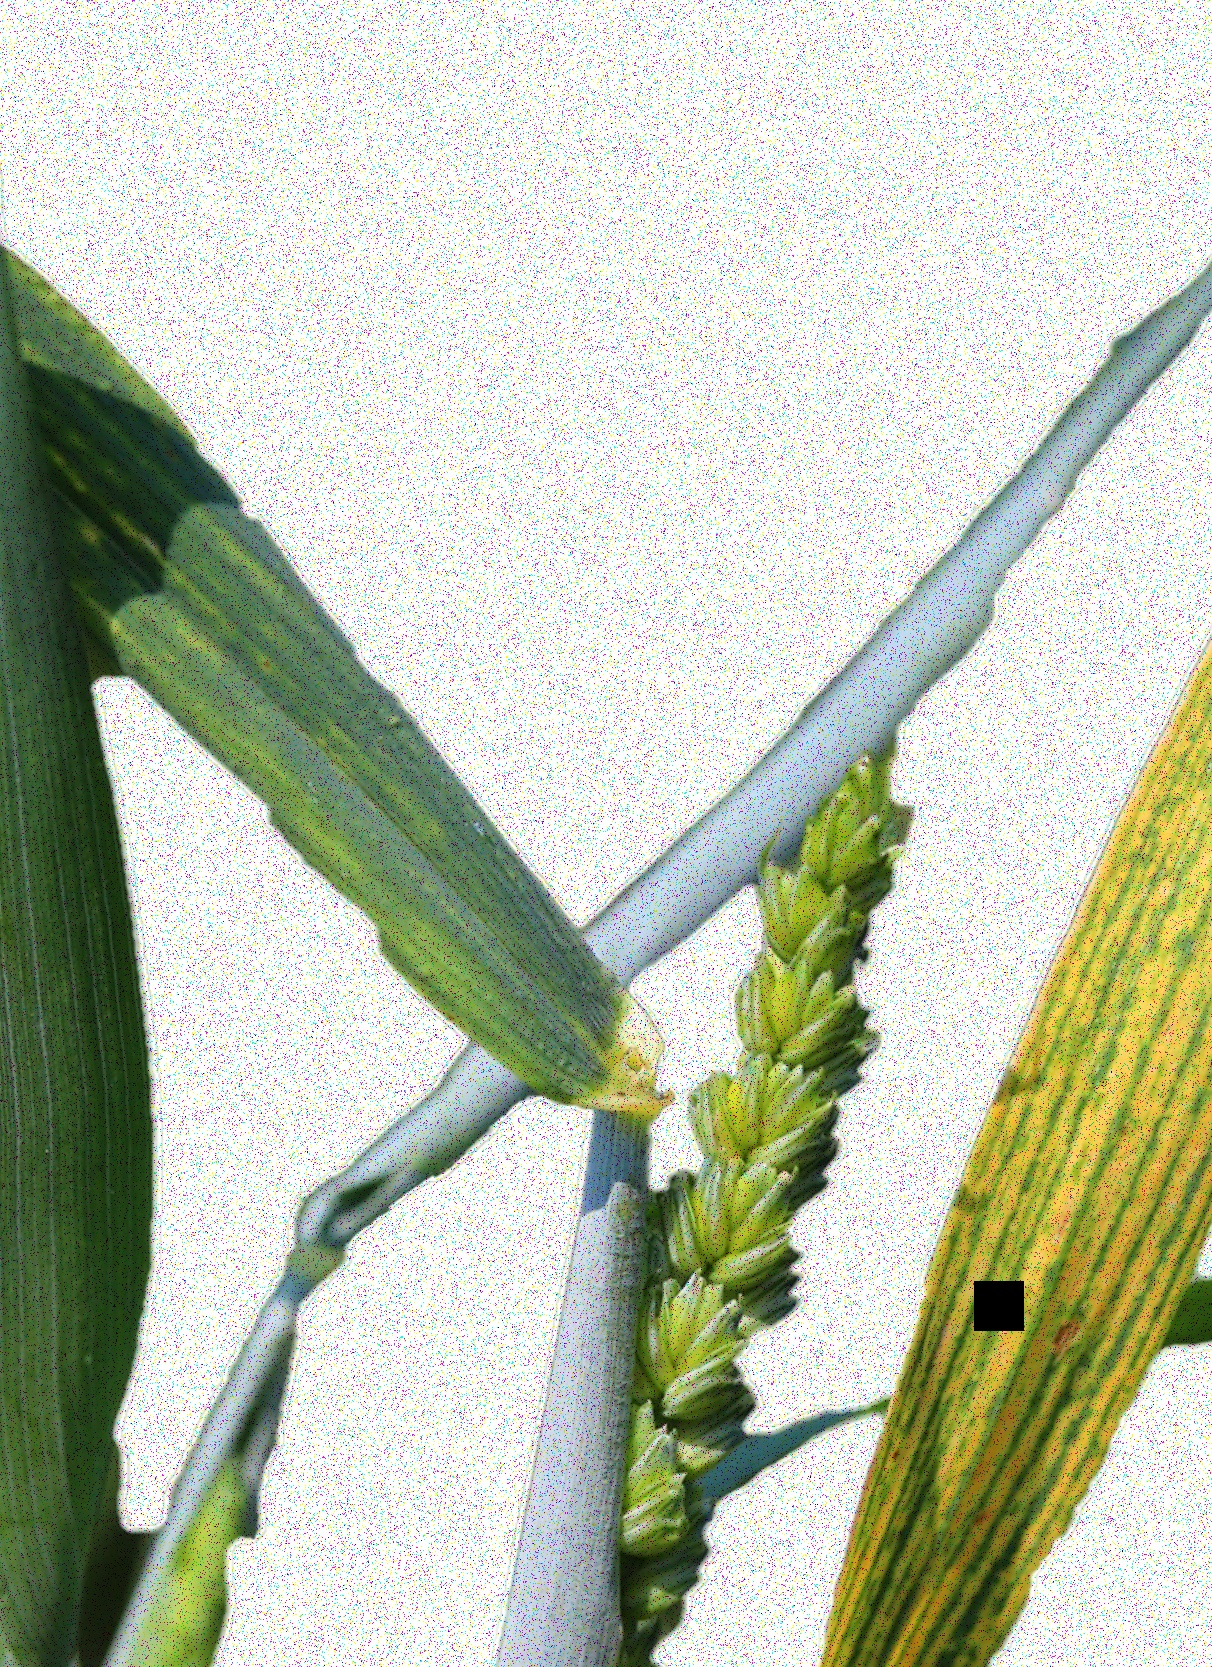wheat: (584, 696, 934, 1658)
